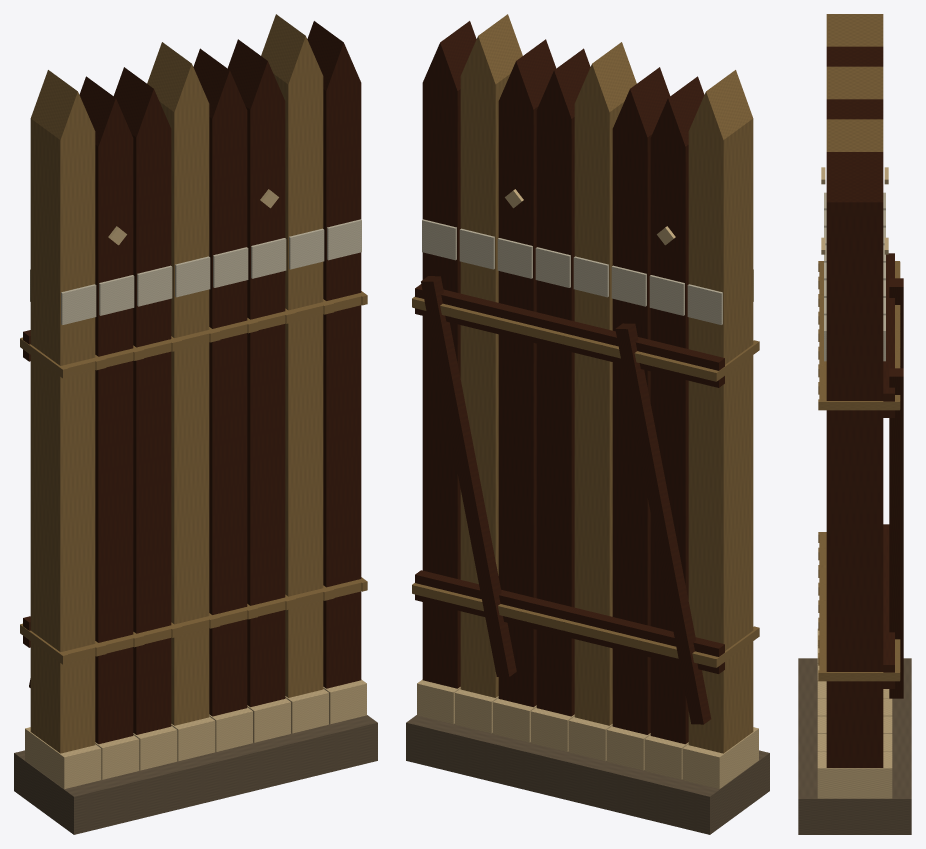
File: Berber_Palisade_Age4_gapfill_2m.fbx
The picture shows the model from 3 angles, left to right: view 1: azimuth 30°, elevation 25°; view 2: azimuth 150°, elevation 25°; view 3: azimuth 270°, elevation 25°; orthographic projection. The views are drawn at different scales.
Parts seen in each view (by area): view 1: palm_split_post.025, palm_split_post.024, palm_split_post.030, palm_split_post.027, palm_split_post.026, palm_split_post.031, palm_split_post.028, earth_seat.004, post_earth_socket.004, neutral_owner_band.004, front_lashing.004, lashing_side.004; view 2: palm_split_post.025, palm_split_post.024, palm_split_post.027, palm_split_post.028, palm_split_post.026, palm_split_post.030, palm_split_post.031, earth_seat.004, back_diagonal_brace.004, post_earth_socket.004, continuous_rear_tie.004, neutral_owner_band.004 (+2 smaller); view 3: palm_split_post.031, earth_seat.004, back_diagonal_brace.004, post_earth_socket.004, continuous_rear_tie.004, lashing_side.004, palm_split_post.027, palm_split_post.024, palm_split_post.030, front_lashing.004, palm_split_post.025, palm_split_post.028 (+3 smaller).
Part boxes in pixels (box(x1,y1,x2,y2)): palm_split_post.025: box(79, 39, 285, 744); palm_split_post.024: box(30, 70, 95, 753); palm_split_post.030: box(261, 14, 323, 697); palm_split_post.027: box(147, 42, 209, 725); palm_split_post.026: box(113, 67, 171, 734); palm_split_post.031: box(307, 21, 361, 688); palm_split_post.028: box(193, 48, 247, 716); earth_seat.004: box(14, 715, 377, 834); post_earth_socket.004: box(25, 679, 366, 788); neutral_owner_band.004: box(30, 219, 361, 324); front_lashing.004: box(61, 292, 365, 662); lashing_side.004: box(20, 291, 367, 664); palm_split_post.025: box(498, 39, 704, 744); palm_split_post.024: box(688, 70, 753, 753); palm_split_post.027: box(574, 42, 636, 725); palm_split_post.028: box(536, 48, 590, 716); palm_split_post.026: box(612, 67, 670, 734); palm_split_post.030: box(460, 14, 522, 697); palm_split_post.031: box(422, 21, 476, 688); earth_seat.004: box(406, 715, 769, 834); back_diagonal_brace.004: box(421, 276, 711, 724); post_earth_socket.004: box(417, 679, 758, 788); continuous_rear_tie.004: box(415, 284, 724, 673); neutral_owner_band.004: box(422, 219, 753, 324); palm_split_post.031: box(826, 152, 883, 767); earth_seat.004: box(798, 658, 911, 834); back_diagonal_brace.004: box(889, 278, 903, 698); post_earth_socket.004: box(817, 629, 892, 798); continuous_rear_tie.004: box(883, 253, 894, 688); lashing_side.004: box(818, 261, 899, 681); palm_split_post.027: box(826, 66, 883, 99); palm_split_post.024: box(826, 14, 883, 46); palm_split_post.030: box(826, 119, 883, 151); front_lashing.004: box(819, 261, 826, 670); palm_split_post.025: box(826, 46, 883, 119); palm_split_post.028: box(826, 99, 883, 116).
Size of the model in its own units: 201 by 458 by 68.29.
Materials: 5 (5 with a texture image).
